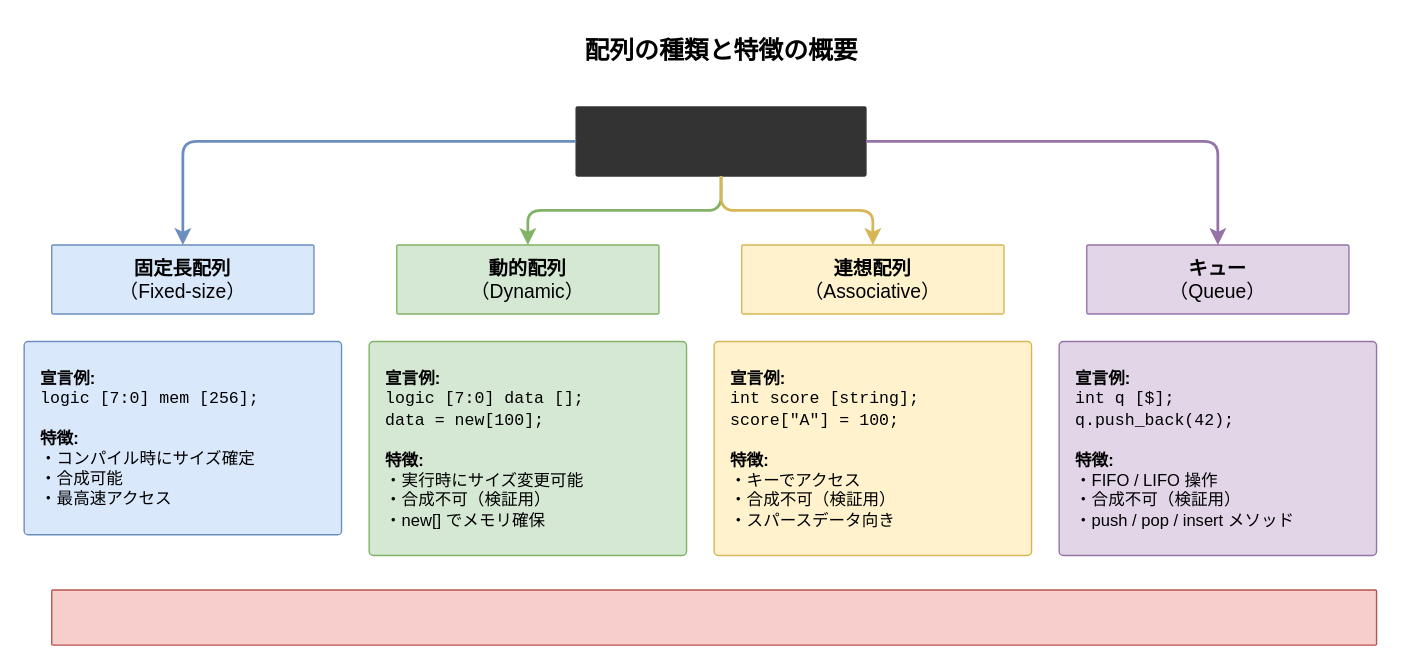
Image size: 1401x669. Some labels were removed from this diagram. The centre of each missing label's shape, as x and y in pixels:
SystemVerilog 配列: point 720,141
合成可否: 固定長配列のみ合成可能。動的配列・連想配列・キューはテストベンチ / 検証環境専用。: point 713,617
